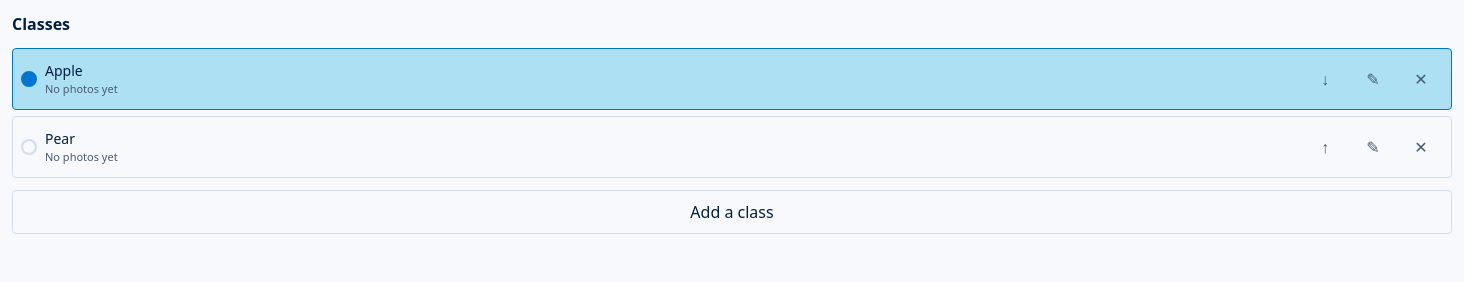
ClassList — renaming › refuses a rename that collides with a sibling
The image size is (1464, 282).
Click the button named "rename pear" at (1373, 147), box left=1351, top=125, right=1395, bottom=169
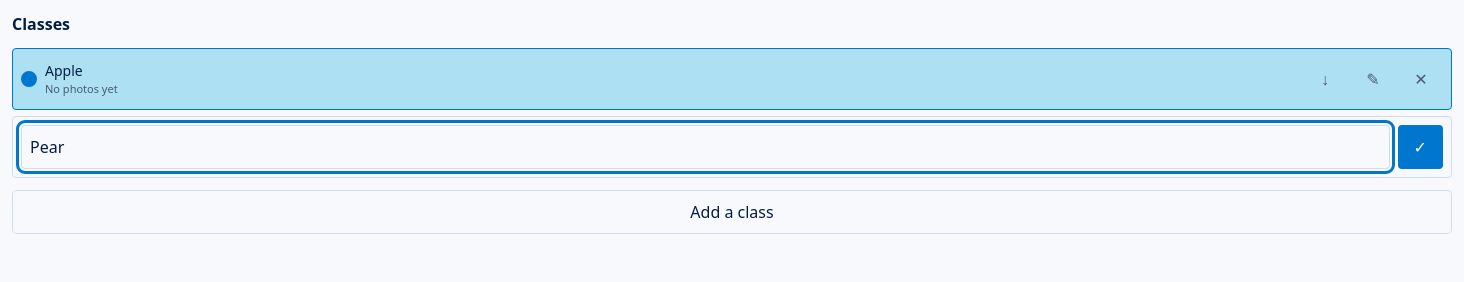
Replace the text in the field named "class name" with "APPLE" at (705, 147), box left=21, top=125, right=1390, bottom=169
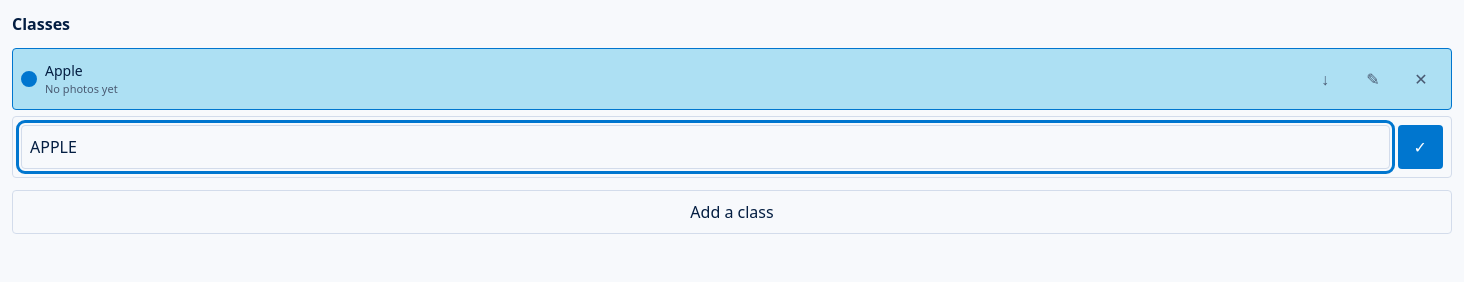
Press Enter
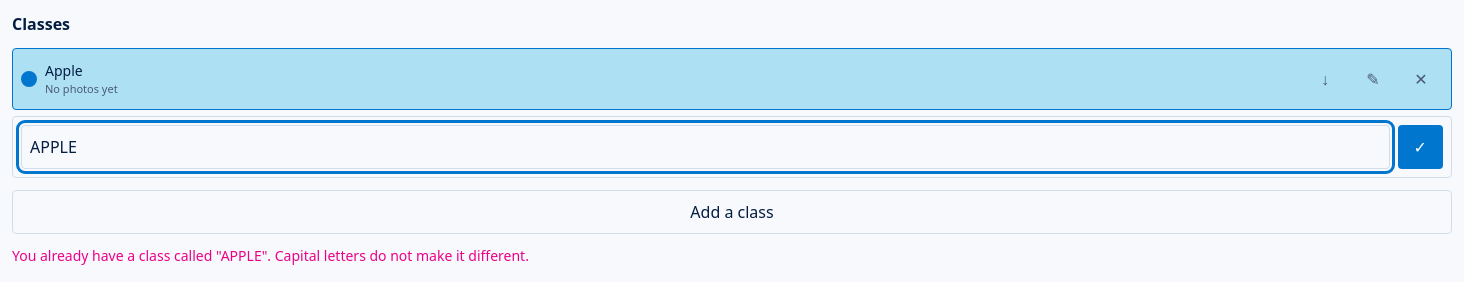
Check: the text "already have a class called" is shown, box left=12, top=246, right=529, bottom=265
